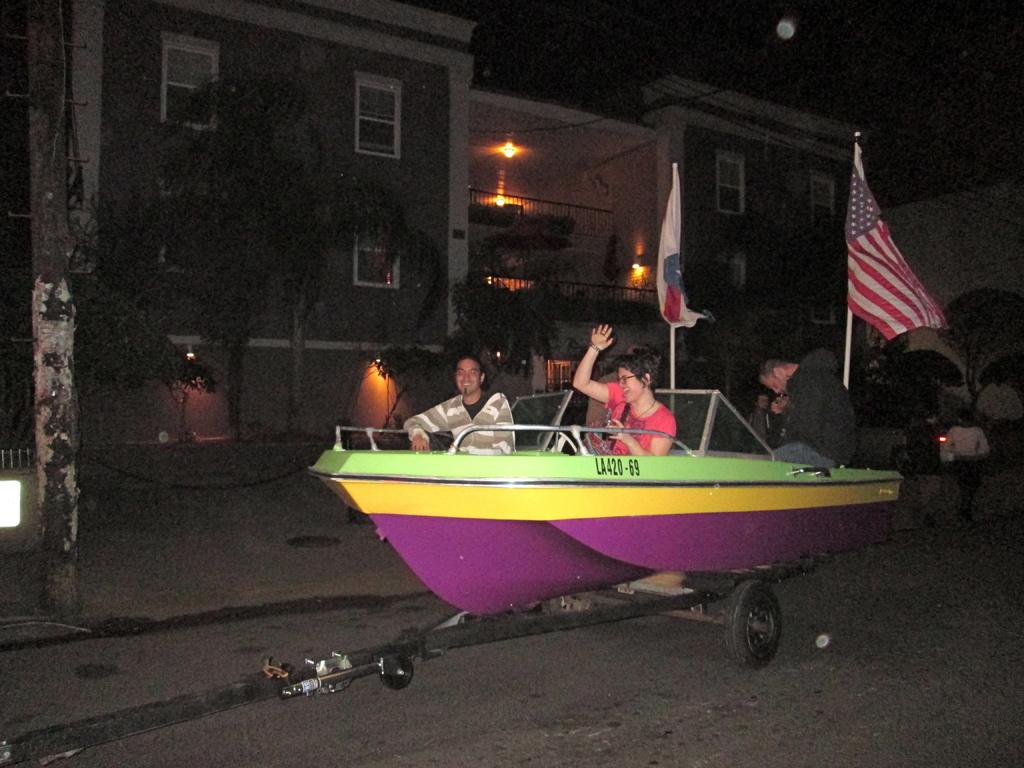boat: (273, 328, 929, 651)
